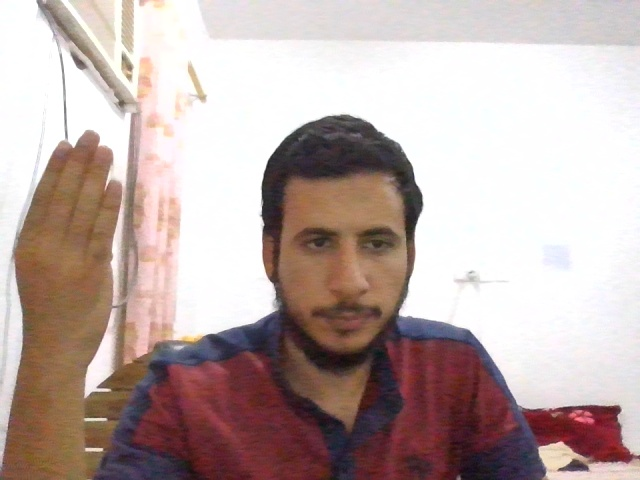Four: (14, 129, 123, 353)
